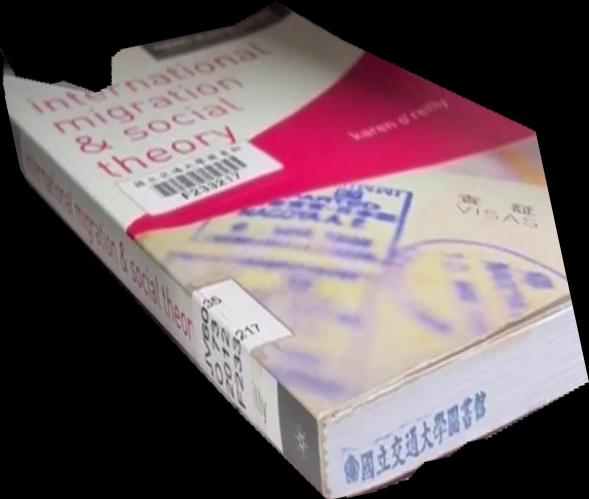flat: (1, 1, 589, 499)
